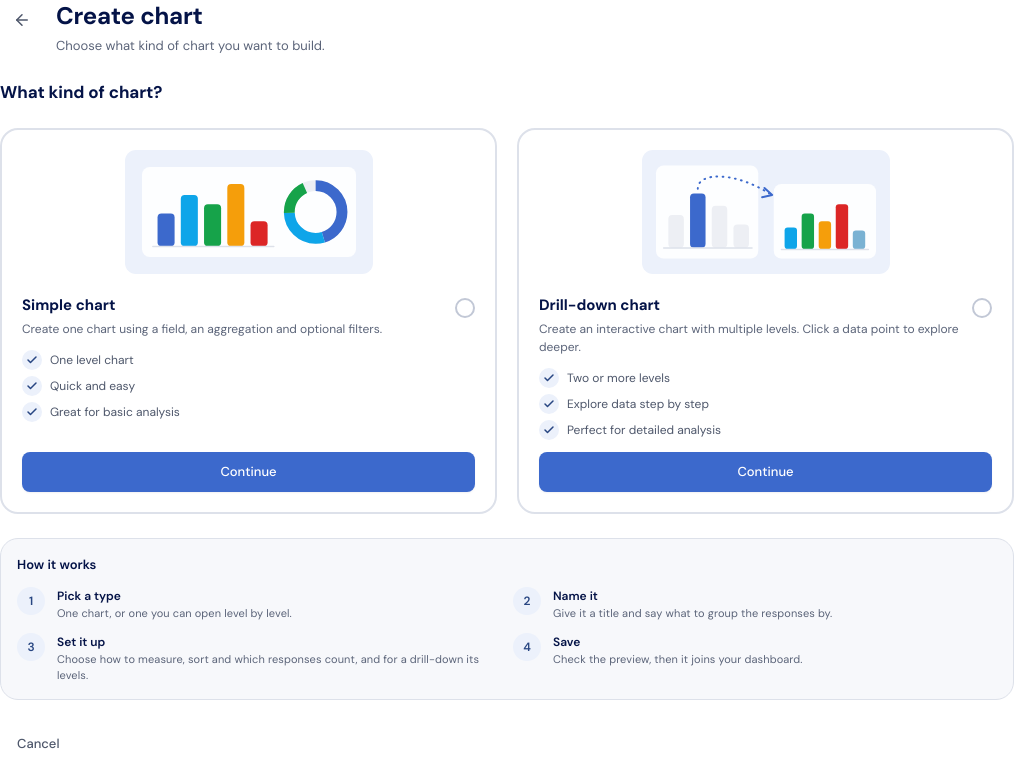
Scenario: step 4 and saving › no sharing switch for a personal form
Check: the radio button labelled "Simple chart" is shown, box [0,128,497,514]
Click the button "Continue" below "Great for basic analysis" at (248, 472), box [22,452,475,492]
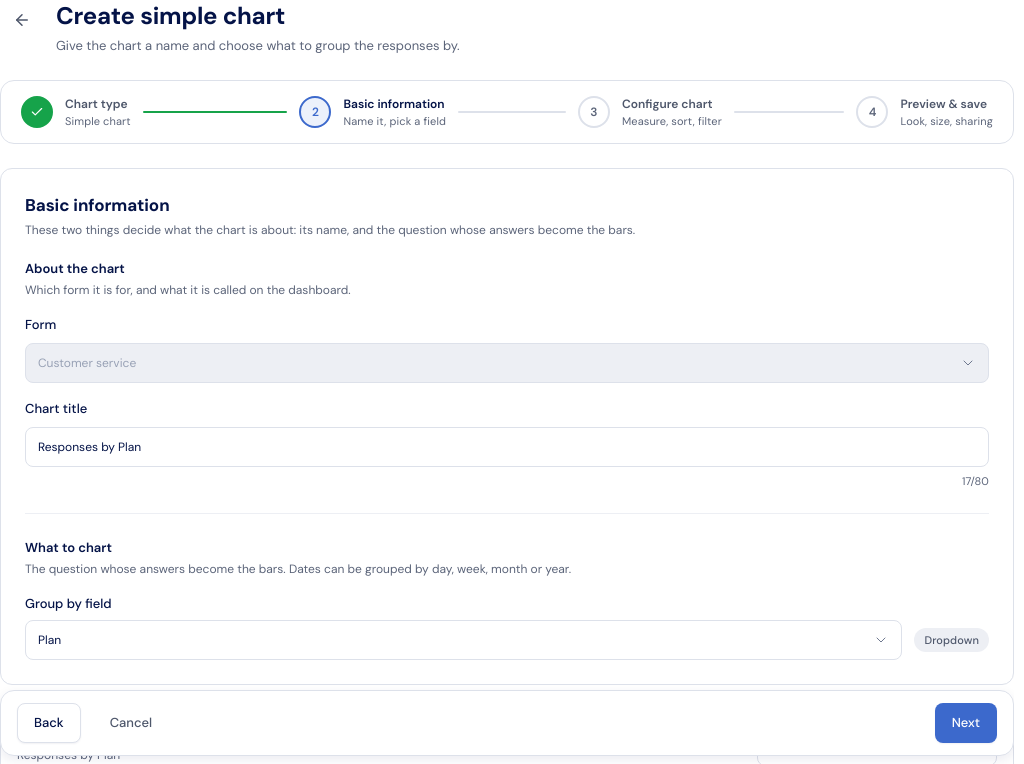
Check: the field labelled "Chart title" is shown, box [25,427,989,467]
Click the button "Next" at (966, 723), box [935,703,997,743]
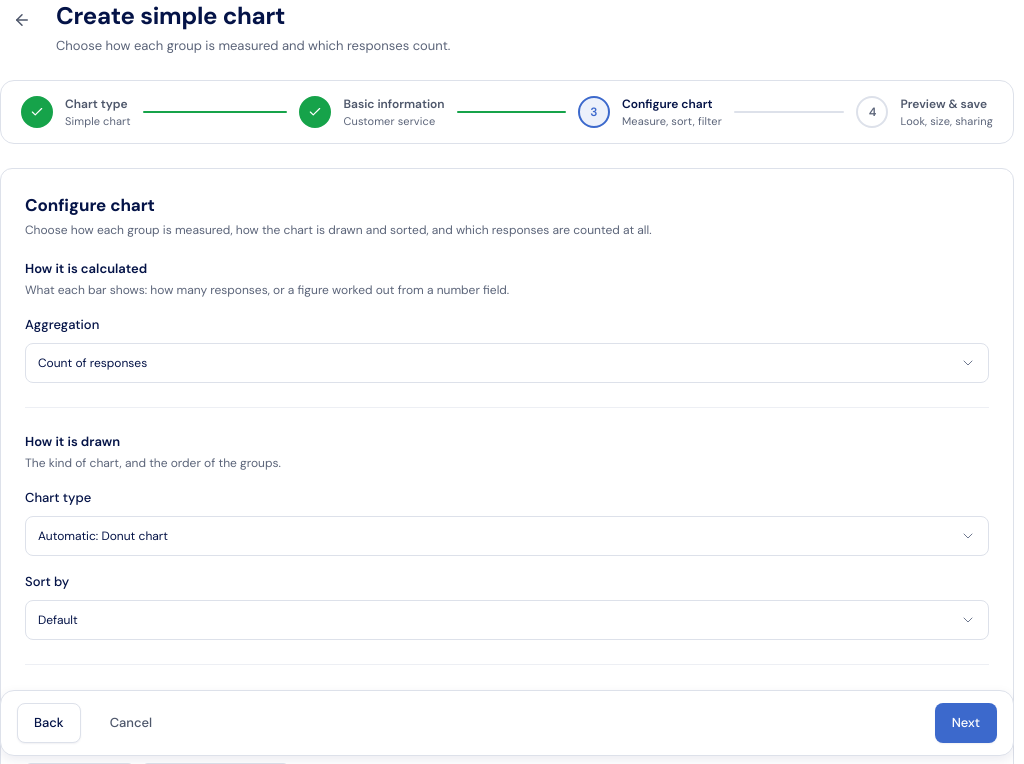
Click the button "Next" at (966, 723), box [935,703,997,743]
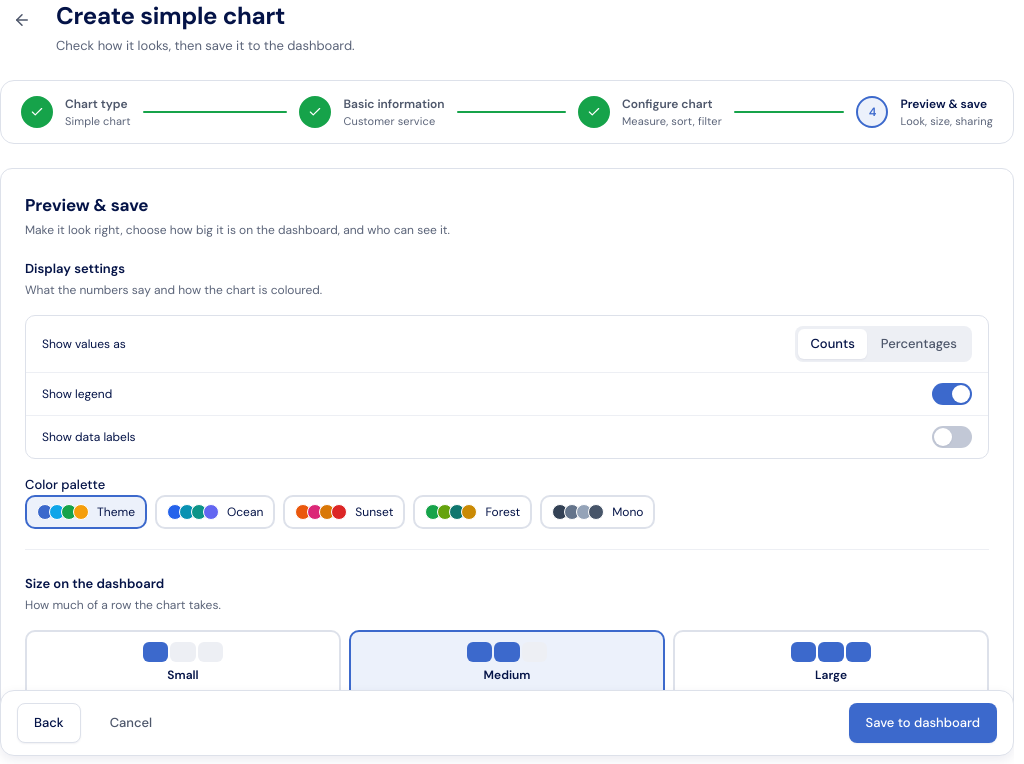
Check: the heading "Preview & save" is shown, box [25,194,148,216]
